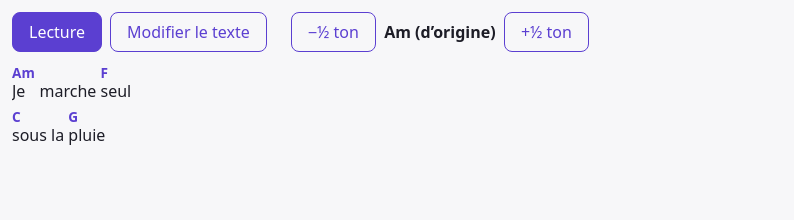
Test: LyricsPanel › enregistre la transposition après confirmation, avec la tonalité
What coordinates should you click on to do the following:
click the button "+½ ton"
I would click on:
 (546, 32)
Its box is [504,12,589,52].
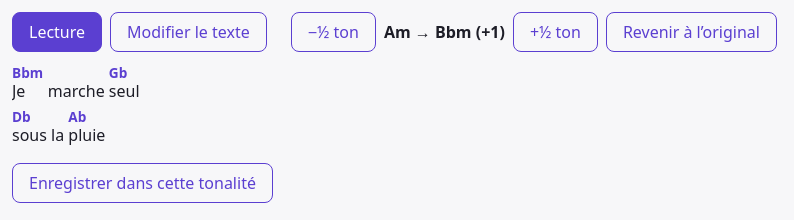
What coordinates should you click on to do the following:
click the button "+½ ton"
I would click on:
 (555, 32)
Its box is [513,12,598,52].
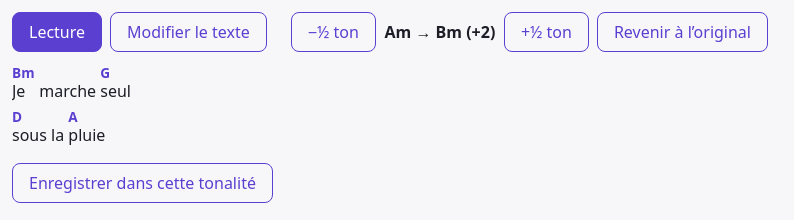
What coordinates should you click on to do the following:
click the button "Enregistrer dans cette tonalité"
I would click on:
 (142, 183)
Its box is [12,163,273,203].
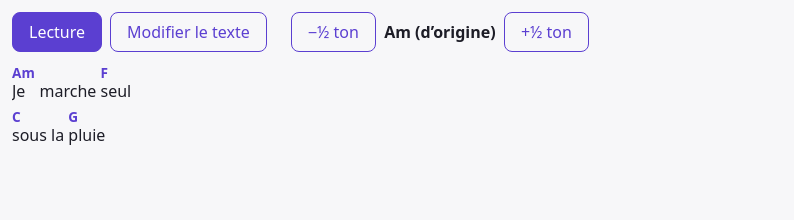
Expected: the text "Am (d’origine)" is shown, [384,21,496,43]
